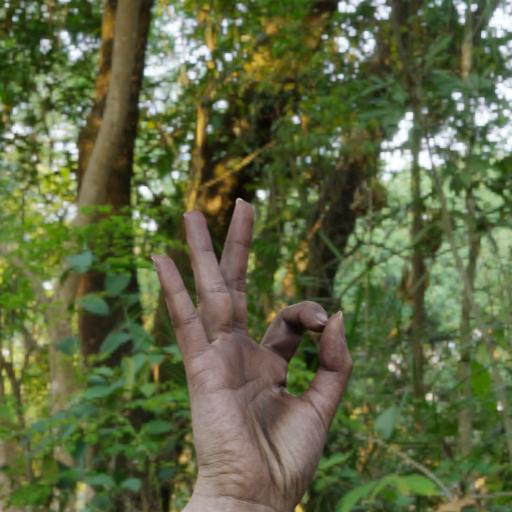F: (145, 184, 364, 502)
